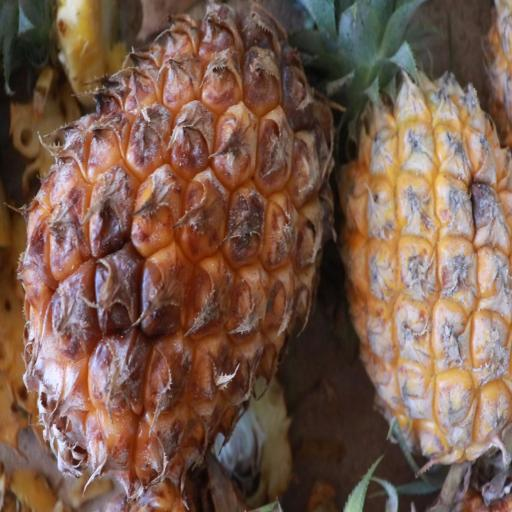Pineapple - v8 v1: (19, 9, 331, 498), (334, 0, 512, 478)
